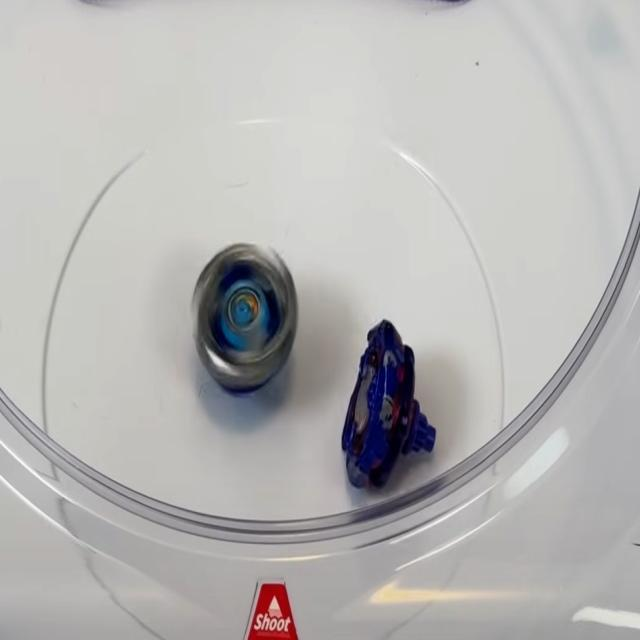Beyblade: (339, 319, 436, 491), (190, 242, 297, 394)
